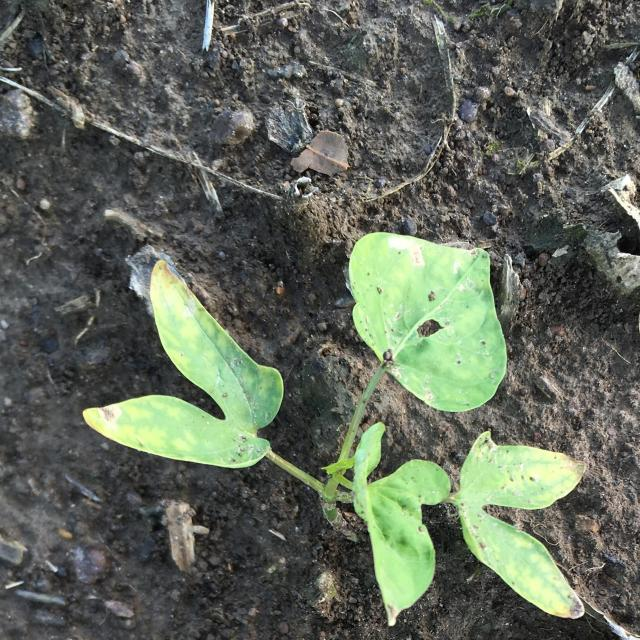MorningGlory: (82, 233, 586, 626)
